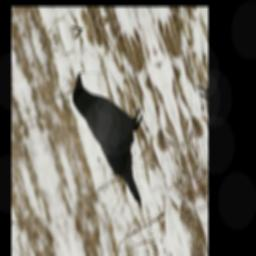Crow: (61, 51, 168, 220)
